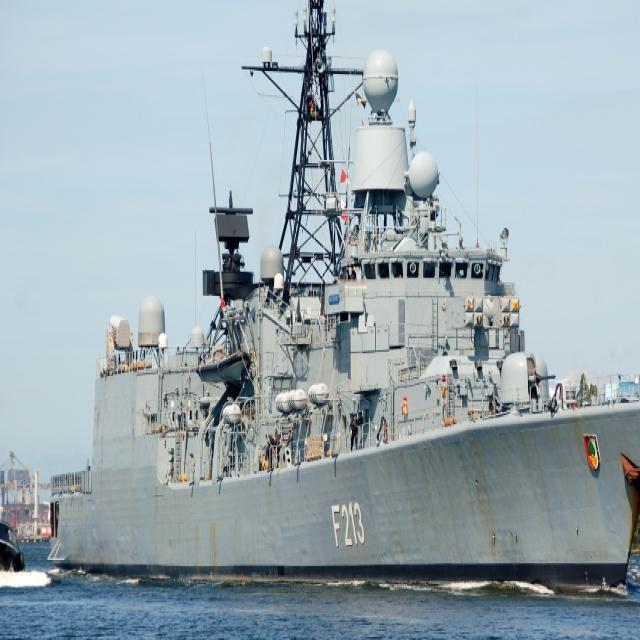Fragata: (44, 1, 640, 596)
